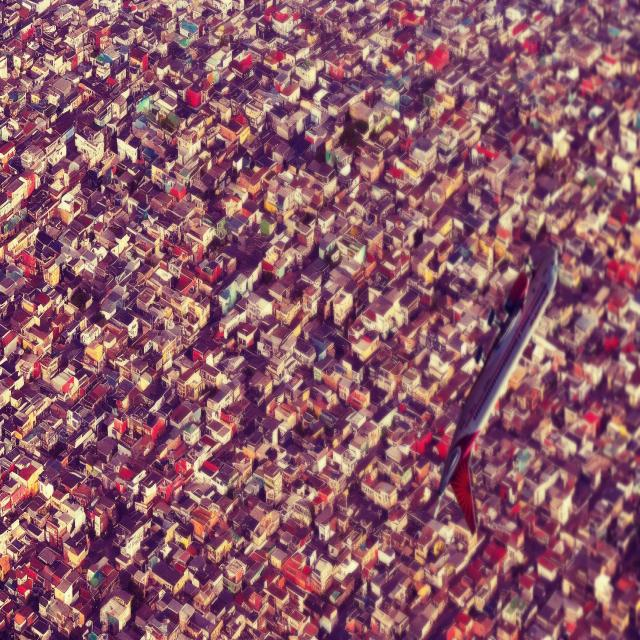airplane: (432, 240, 559, 534)
